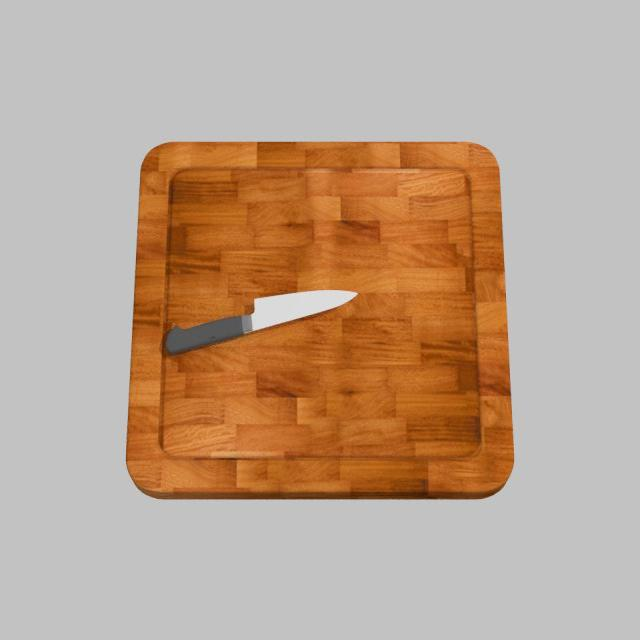knife: (166, 316, 244, 355)
